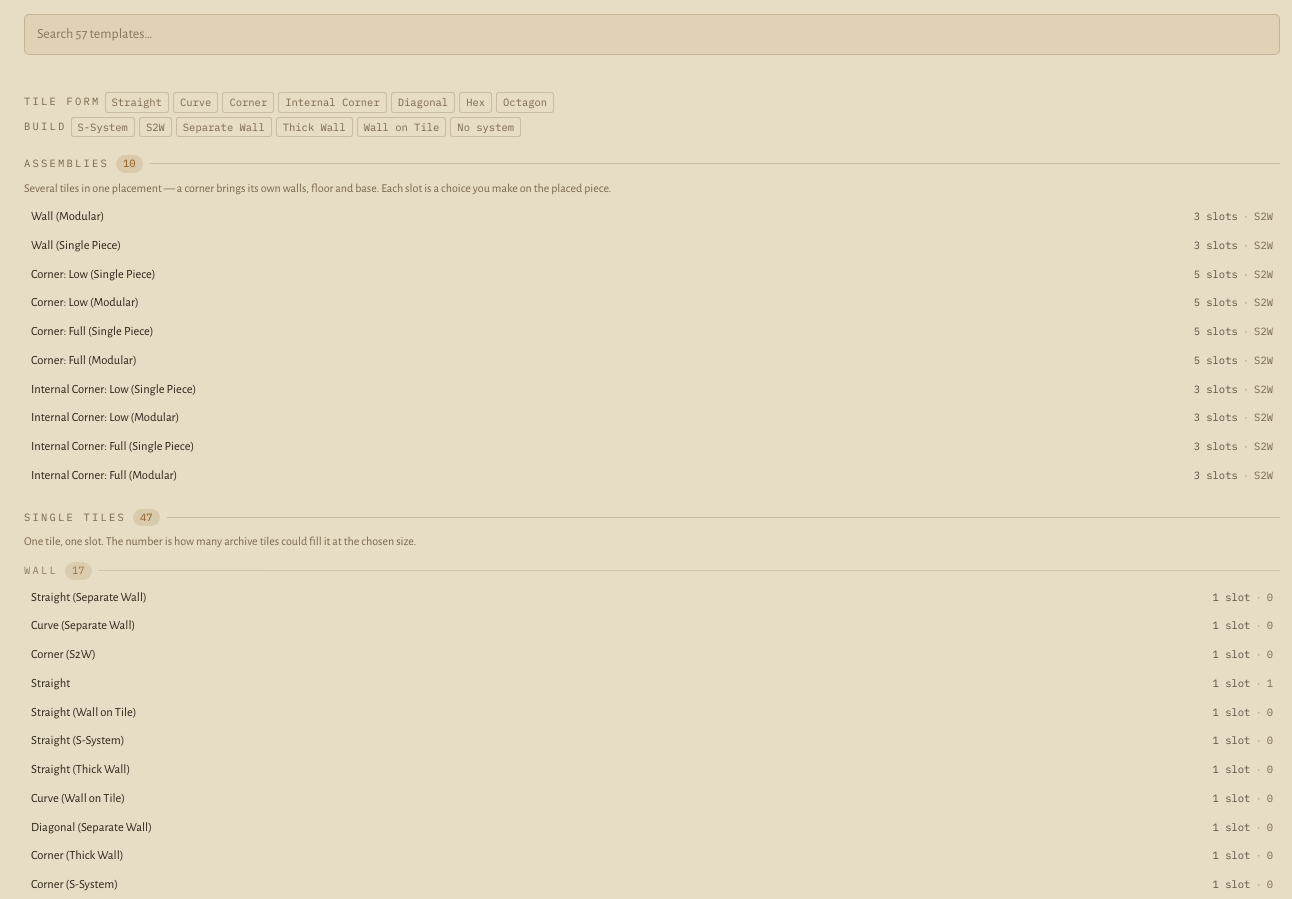
Test: the palette › narrows both sections by build, because every template carries one
Click the button "S2W" at (155, 127), box x1=139 y1=116 x2=172 y2=137
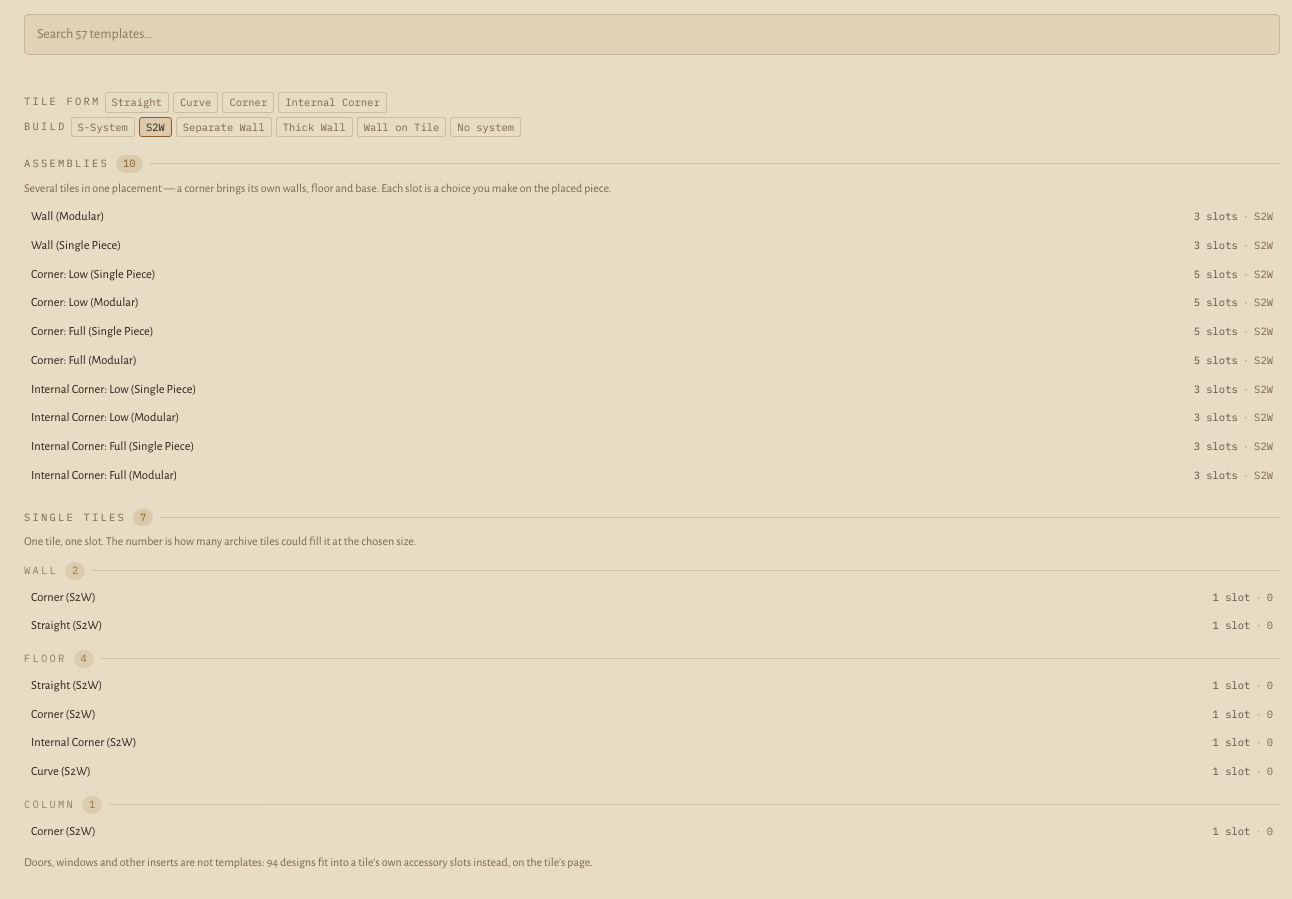
Check: the heading "Assemblies 10" is shown, box x1=24 y1=155 x2=143 y2=173
Check: the heading "Single tiles 7" is shown, box x1=24 y1=509 x2=153 y2=526
# A build no assembly carries drops the section rather than heading nothing.
Click the button "S2W" at (155, 127), box x1=139 y1=116 x2=172 y2=137
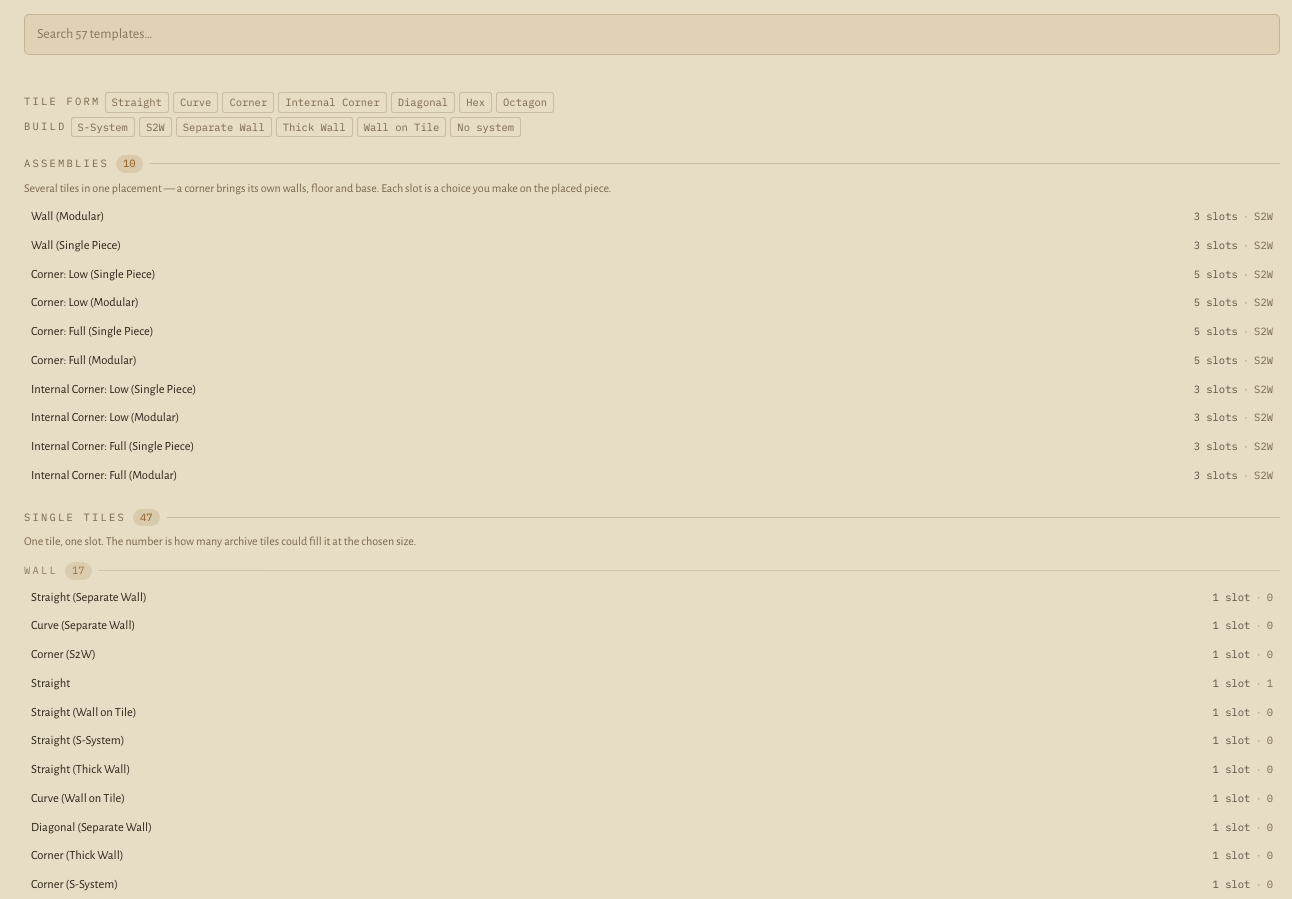
Click the button "Thick Wall" at (314, 127), box x1=276 y1=116 x2=353 y2=137
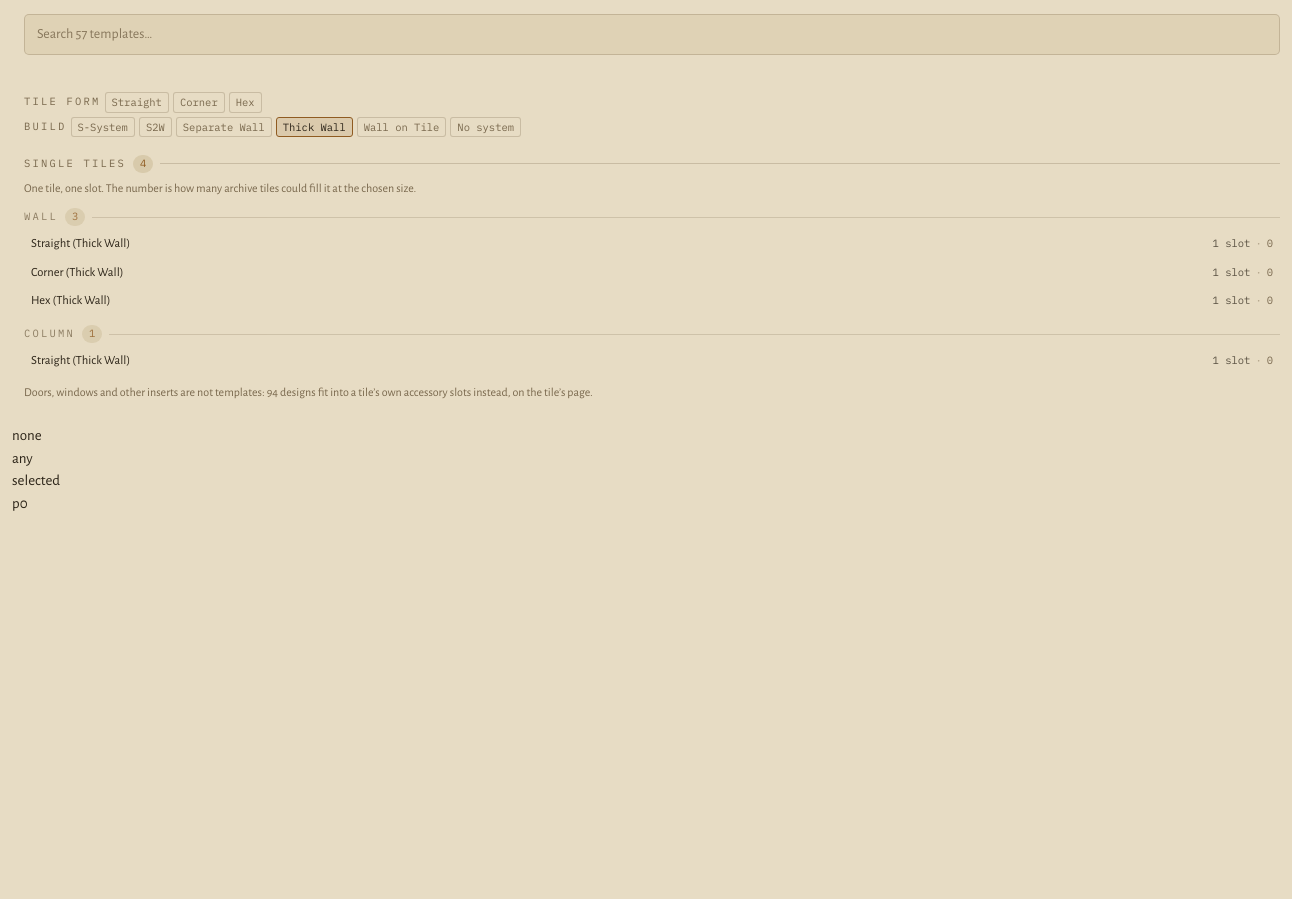
Check: the heading "Single tiles 4" is shown, box x1=24 y1=155 x2=153 y2=173
Check: the text "Assemblies" is gone
